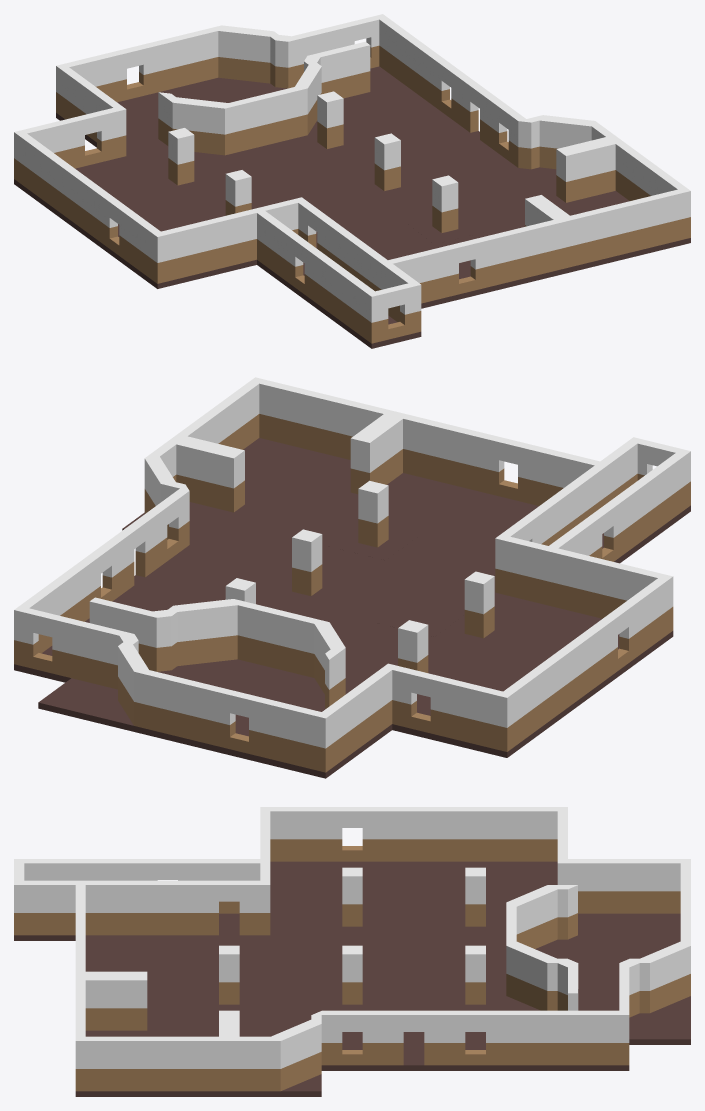
File: level.FBX
3 views of the same model, one above another, from view 1: azimuth 30°, elevation 25°; view 2: azimuth 150°, elevation 25°; view 3: azimuth 270°, elevation 25° (orthographic). The views are drawn at different scales.
Visible parts, largest first — view 1: Object086, Object043, Object190, Object185, Object195, Object041, Object196, Object213, Object183, Object169, Object216, Object182 (+51 smaller); view 2: Object174, Object175, Object216, Object186, Object202, Object187, Object195, Object200, Object166, Object196, Object165, Object086 (+55 smaller); view 3: Object086, Object080, Object083, Object168, Object167, Object218, Object213, Object043, Object174, Object175, Object038, Object084 (+51 smaller).
Boxes of the visible parts, x1=… form: Object086: x1=343, y1=264, x2=421, y2=348; Object043: x1=128, y1=214, x2=207, y2=288; Object190: x1=205, y1=25, x2=282, y2=96; Object185: x1=163, y1=93, x2=241, y2=162; Object195: x1=284, y1=26, x2=361, y2=98; Object041: x1=529, y1=198, x2=591, y2=279; Object196: x1=333, y1=14, x2=410, y2=93; Object213: x1=556, y1=128, x2=632, y2=207; Object183: x1=155, y1=29, x2=233, y2=101; Object169: x1=64, y1=108, x2=141, y2=185; Object216: x1=637, y1=170, x2=690, y2=254; Object182: x1=106, y1=41, x2=160, y2=121; Object174: x1=449, y1=671, x2=540, y2=757; Object175: x1=268, y1=692, x2=358, y2=778; Object216: x1=222, y1=377, x2=312, y2=469; Object186: x1=162, y1=599, x2=252, y2=681; Object202: x1=395, y1=419, x2=484, y2=511; Object187: x1=220, y1=603, x2=309, y2=695; Object195: x1=71, y1=600, x2=161, y2=689; Object200: x1=452, y1=433, x2=542, y2=525; Object166: x1=525, y1=548, x2=615, y2=638; Object196: x1=14, y1=585, x2=104, y2=682; Object165: x1=494, y1=534, x2=557, y2=626; Object086: x1=600, y1=437, x2=690, y2=535; Object086: x1=14, y1=859, x2=75, y2=940; Object080: x1=198, y1=859, x2=260, y2=935; Object083: x1=137, y1=859, x2=198, y2=935; Object168: x1=383, y1=807, x2=444, y2=883; Object167: x1=444, y1=807, x2=506, y2=883; Object218: x1=260, y1=1015, x2=321, y2=1096; Object213: x1=198, y1=1015, x2=260, y2=1096; Object043: x1=260, y1=807, x2=321, y2=883; Object174: x1=506, y1=807, x2=567, y2=883; Object175: x1=629, y1=859, x2=690, y2=935; Object038: x1=568, y1=859, x2=629, y2=935; Object084: x1=75, y1=859, x2=136, y2=935.
Bounding box in the file's own units: 900 × 1100 × 100.
